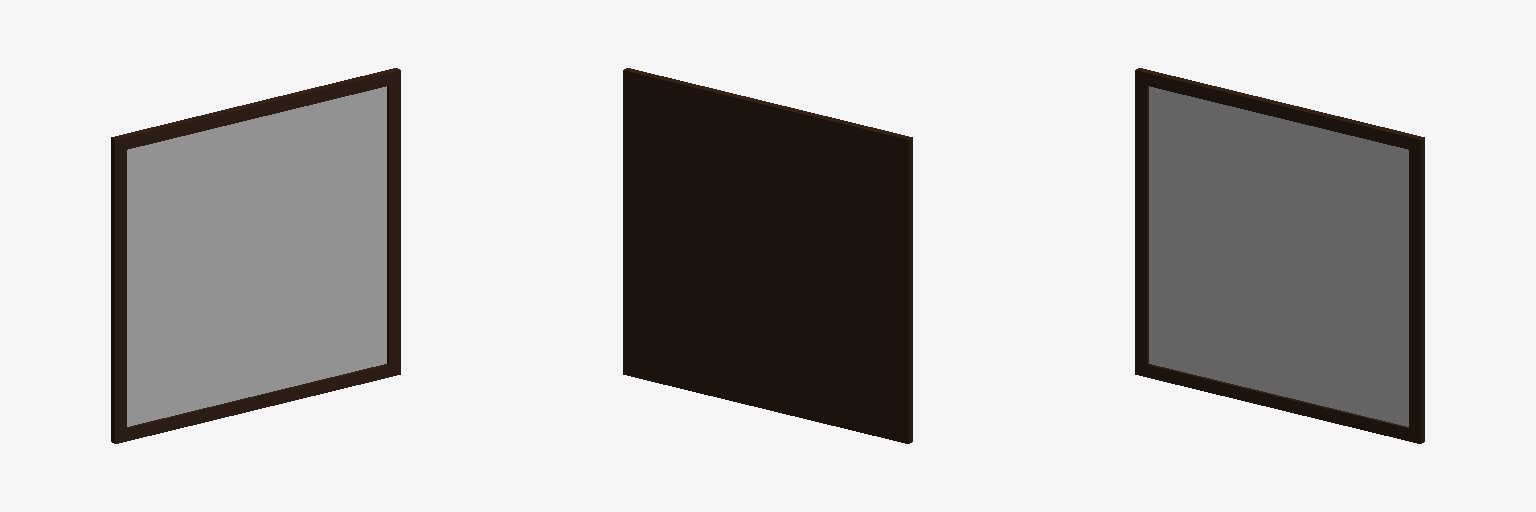
File: drowning_girl.obj
3 renders of one model, left to right at view 1: azimuth 30°, elevation 25°; view 2: azimuth 150°, elevation 25°; view 3: azimuth 330°, elevation 25°, orthographic.
Visible parts, largest first — view 1: Cube; view 2: Cube; view 3: Cube.
Boxes of the visible parts, box(x1,y1,x2,y2) form: Cube: box(111, 68, 400, 443); Cube: box(623, 68, 912, 443); Cube: box(1135, 68, 1424, 443).
Size of the model in its own units: 840 by 855 by 18.5.